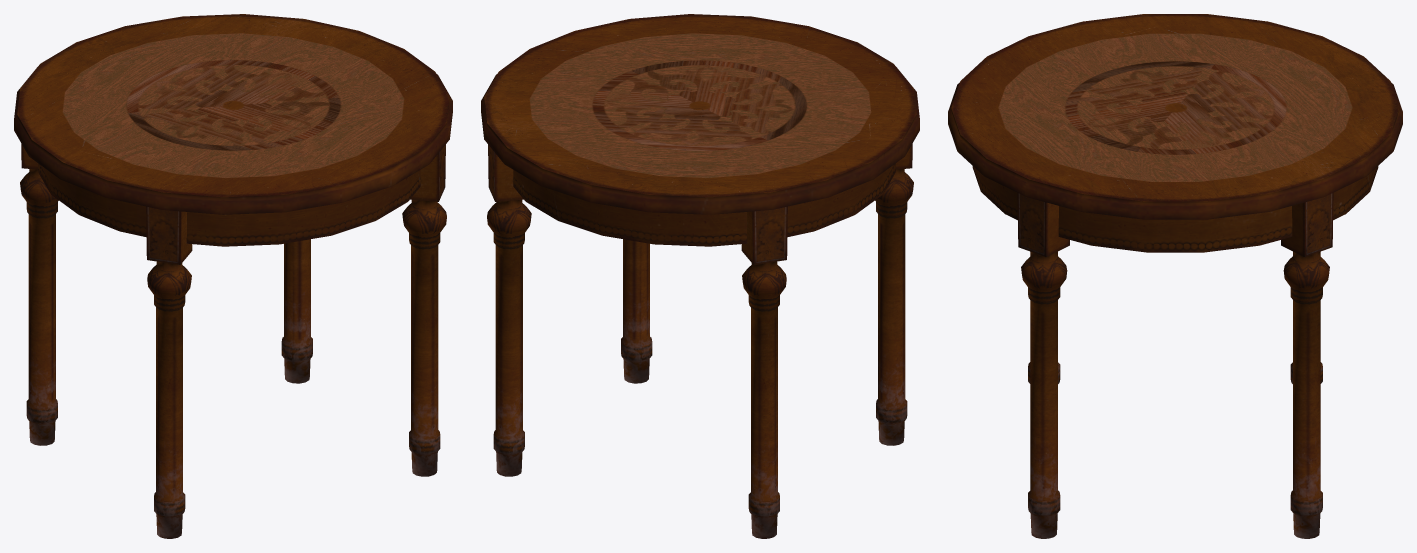
3 renders of one model, left to right at view 1: azimuth 30°, elevation 25°; view 2: azimuth 150°, elevation 25°; view 3: azimuth 270°, elevation 25°, orthographic. The views are drawn at different scales.
Visible parts, largest first — view 1: Tisch_klein; view 2: Tisch_klein; view 3: Tisch_klein.
Part boxes in pixels (bbox=[...]): Tisch_klein: bbox=[14, 14, 452, 538]; Tisch_klein: bbox=[481, 14, 919, 538]; Tisch_klein: bbox=[948, 14, 1402, 538].
Bounding box in the file's own units: 0.7338 × 0.6502 × 0.7413.
1 material, 1 textured.
